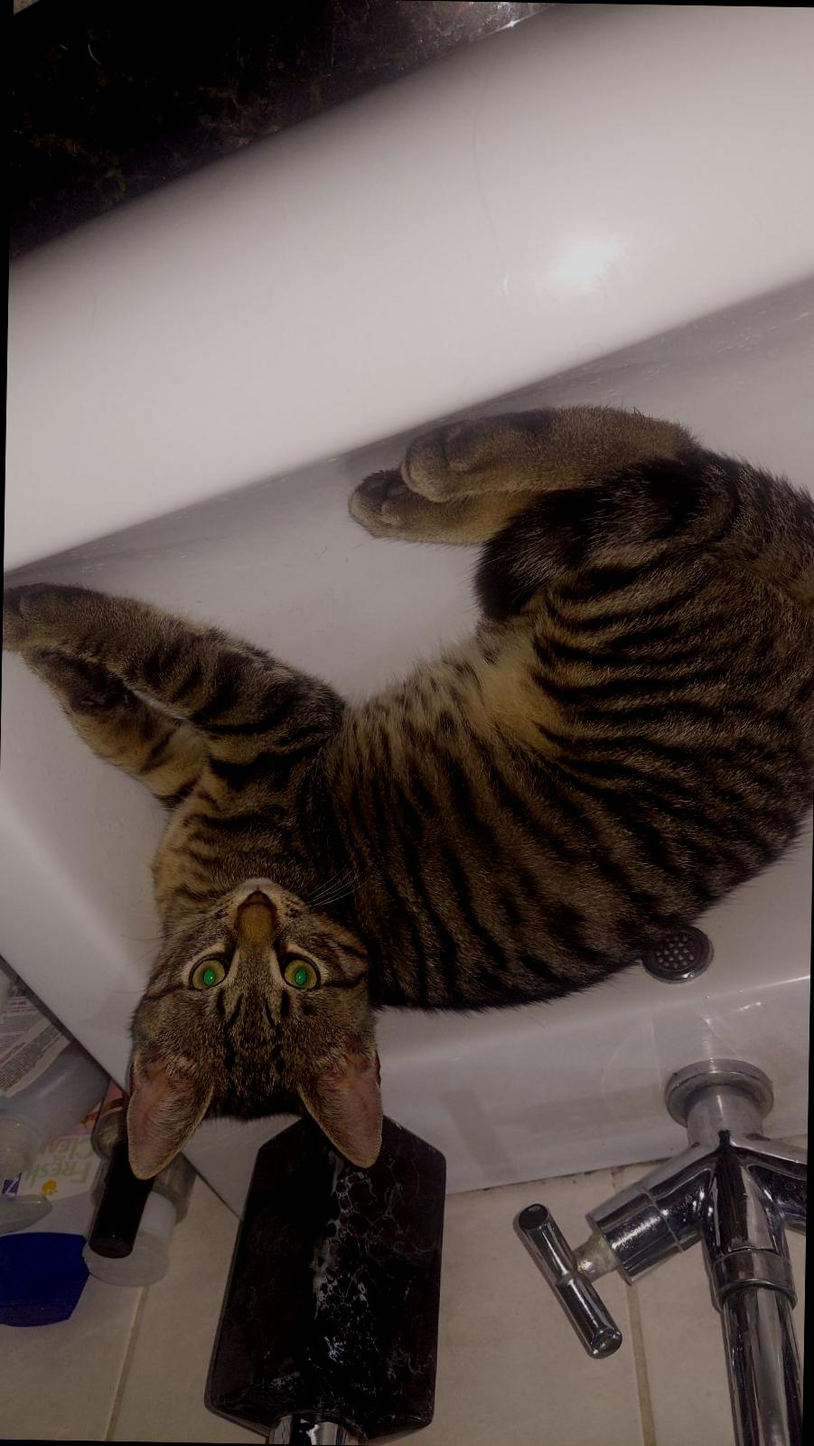macka: (0, 393, 814, 1189)
